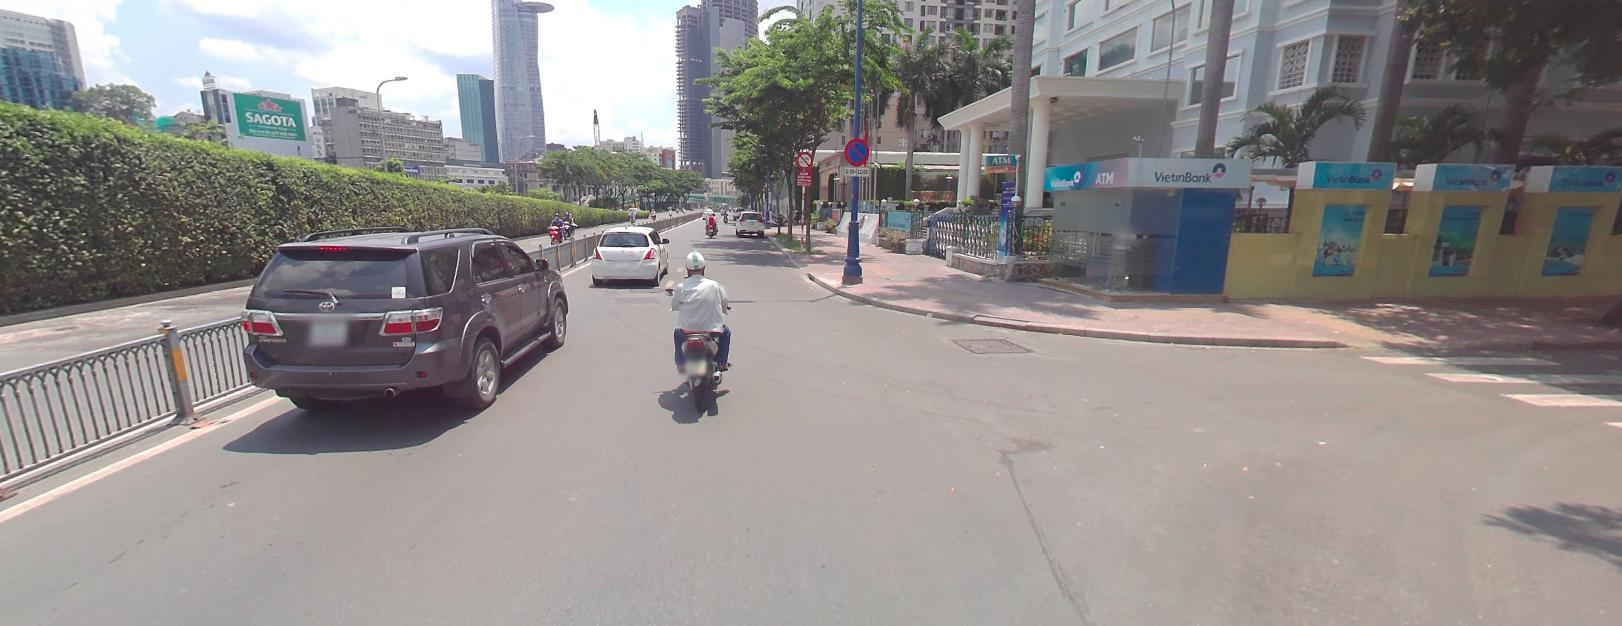Cam con lai: (795, 150, 812, 168)
Cam dung va do: (844, 137, 867, 165)
